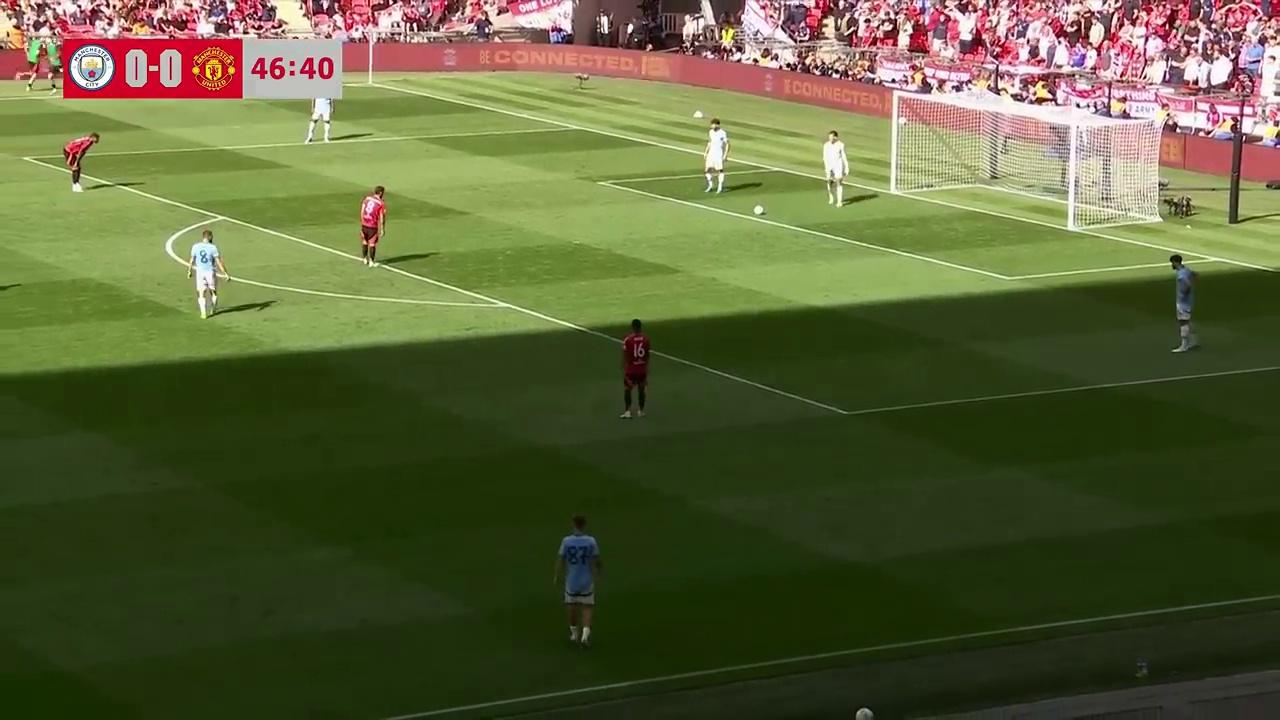ball: (752, 200, 766, 219)
player: (553, 513, 602, 646), (619, 317, 650, 419), (1169, 252, 1200, 353), (187, 232, 221, 318), (359, 184, 386, 266), (822, 130, 849, 207), (703, 119, 729, 194), (62, 134, 95, 192), (304, 90, 336, 144)
